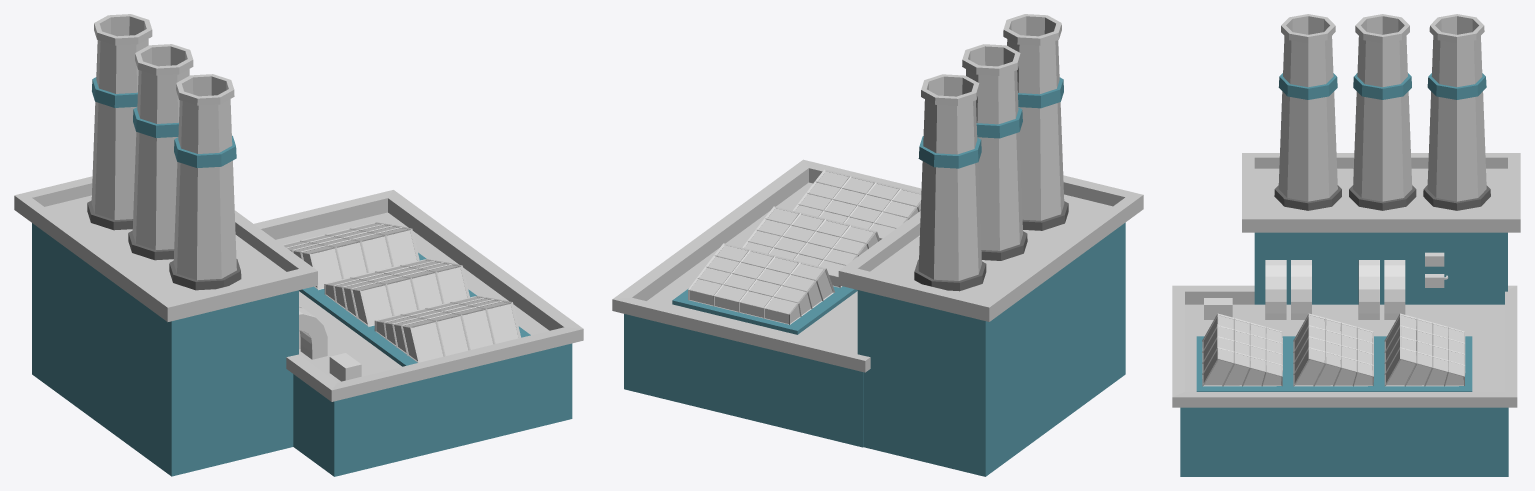
The model's file is CC_factory_temp.fbx.
3 views of the same model, side by side, from view 1: azimuth 30°, elevation 25°; view 2: azimuth 150°, elevation 25°; view 3: azimuth 270°, elevation 25° (orthographic). The views are drawn at different scales.
Visible parts, largest first — view 1: Cube.007, Cube.003, Chimney, Glass roof, Cube.006, Cube.011, Cube.009; view 2: Cube.007, Cube.003, Chimney, Glass roof, Cube.006; view 3: Cube.003, Chimney, Cube.007, Glass roof, Cube.011, Cube.006, Cube.010, Cube.009.
Boxes of the visible parts, left/top/right/bottom form: Cube.007: left=14, top=176, right=317, bottom=476; Cube.003: left=254, top=190, right=583, bottom=476; Chimney: left=87, top=14, right=241, bottom=290; Glass roof: left=283, top=222, right=520, bottom=362; Cube.006: left=299, top=252, right=530, bottom=366; Cube.011: left=299, top=305, right=327, bottom=359; Cube.009: left=329, top=353, right=361, bottom=381; Cube.007: left=838, top=175, right=1143, bottom=476; Cube.003: left=612, top=159, right=921, bottom=447; Chimney: left=914, top=14, right=1068, bottom=291; Glass roof: left=688, top=169, right=921, bottom=324; Cube.006: left=672, top=286, right=857, bottom=334; Cube.003: left=1172, top=285, right=1517, bottom=476; Chimney: left=1274, top=14, right=1490, bottom=210; Cube.007: left=1242, top=153, right=1520, bottom=304; Glass roof: left=1202, top=313, right=1465, bottom=386; Cube.011: left=1265, top=260, right=1405, bottom=319; Cube.006: left=1196, top=336, right=1472, bottom=391; Cube.010: left=1425, top=252, right=1444, bottom=287; Cube.009: left=1204, top=298, right=1232, bottom=319.
Bounding box in the file's own units: 1004 × 898 × 884.
